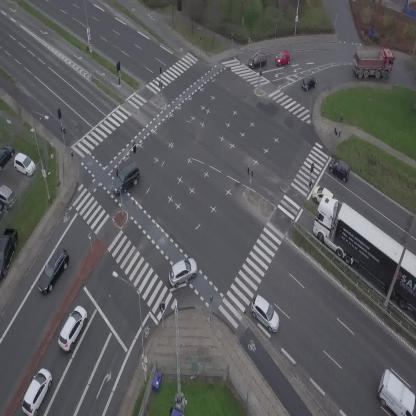car: (32, 246, 74, 297), (53, 303, 93, 353), (17, 366, 57, 416), (244, 293, 286, 335), (106, 160, 147, 198), (163, 254, 202, 290), (326, 155, 354, 182), (310, 182, 335, 204), (298, 74, 319, 93), (247, 52, 268, 68), (273, 49, 292, 66)
lorry: (355, 48, 394, 79)
